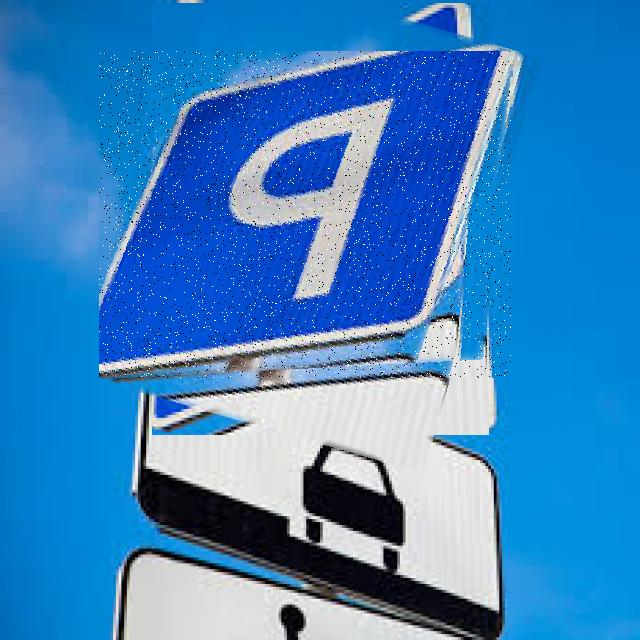parking: (100, 51, 511, 378)
